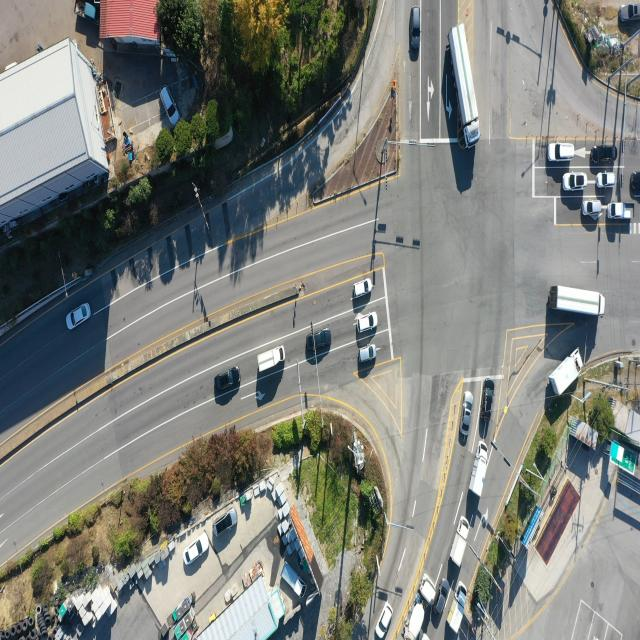car: (185, 536, 211, 568), (159, 83, 177, 125), (304, 330, 330, 356), (67, 304, 91, 332), (214, 508, 236, 536), (480, 379, 495, 420), (460, 391, 473, 438), (378, 604, 394, 639), (548, 142, 574, 163), (214, 370, 238, 392), (436, 581, 451, 616), (356, 312, 378, 334), (563, 172, 587, 192), (590, 145, 616, 163), (412, 6, 422, 52), (353, 278, 373, 300), (357, 344, 376, 364), (620, 3, 640, 22), (584, 200, 603, 217), (595, 175, 615, 191), (630, 172, 640, 191)
medium_truck: (450, 23, 484, 150), (405, 571, 436, 639), (550, 348, 584, 397), (552, 286, 604, 316)
small_truck: (470, 443, 492, 501), (449, 515, 469, 569), (280, 560, 306, 600), (446, 582, 466, 632), (257, 345, 286, 376), (610, 202, 636, 222), (74, 0, 98, 21)
